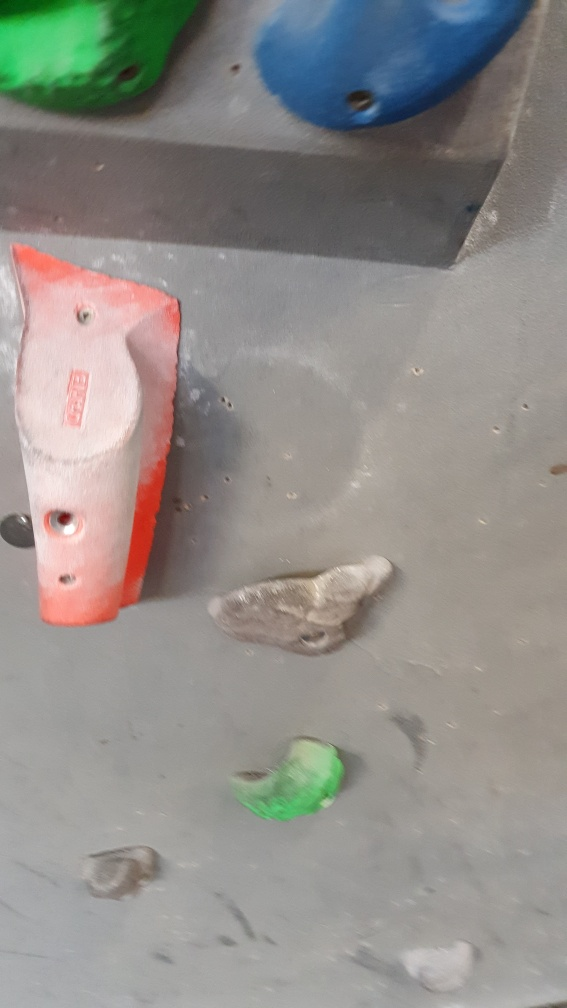Hand Start: (1, 509, 49, 549)
Jug: (206, 555, 397, 662), (222, 730, 347, 825), (399, 938, 479, 996)
Pinch: (6, 242, 183, 627)
